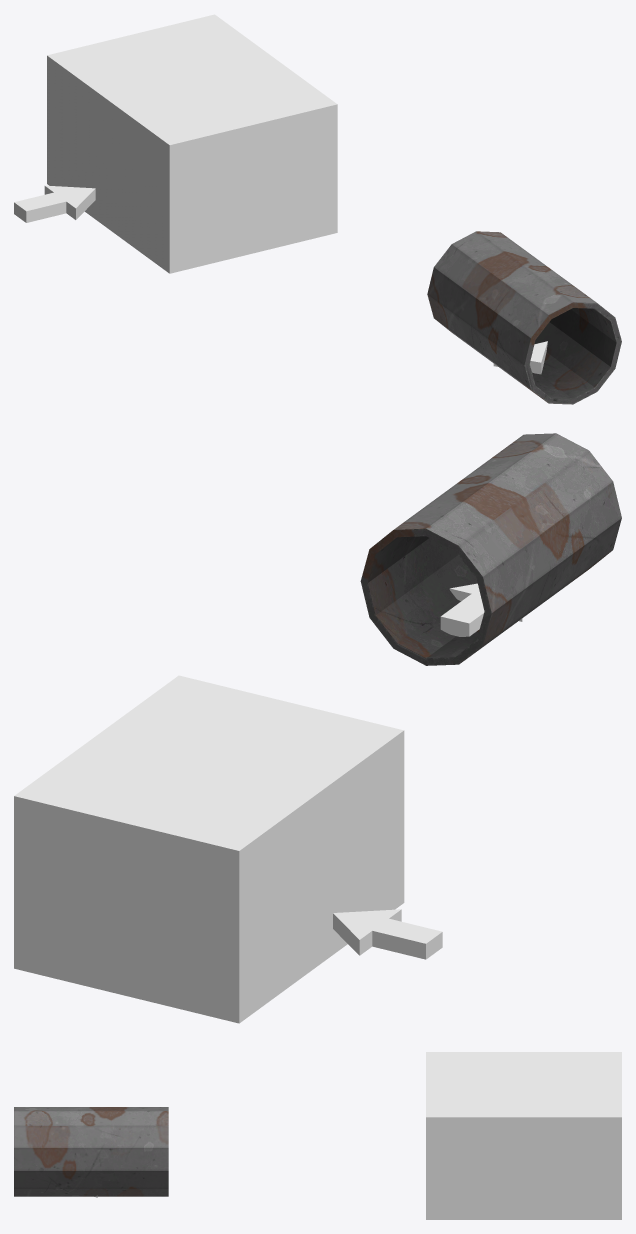
Rendered from PipeRoller.glb.
3 renders of one model, top to bottom at view 1: azimuth 30°, elevation 25°; view 2: azimuth 150°, elevation 25°; view 3: azimuth 270°, elevation 25°, orthographic. The views are drawn at different scales.
Visible parts, largest first — view 1: MachineTrigger, IronPipe, ghostarrow (1); view 2: MachineTrigger, IronPipe, ghostarrow (1), ghostarrow; view 3: MachineTrigger, IronPipe.
Part boxes in pixels (x1,y1,x2,y2): MachineTrigger: (47,14,337,273); IronPipe: (427,231,621,404); ghostarrow (1): (14,185,95,222); MachineTrigger: (14,675,404,1023); IronPipe: (360,433,621,665); ghostarrow (1): (333,909,442,959); ghostarrow: (440,583,522,636); MachineTrigger: (426,1052,621,1219); IronPipe: (14,1107,168,1196).
Size of what is drawn, in the model's own units: 1.06 by 0.4668 by 2.51.
3 materials, 1 textured.
